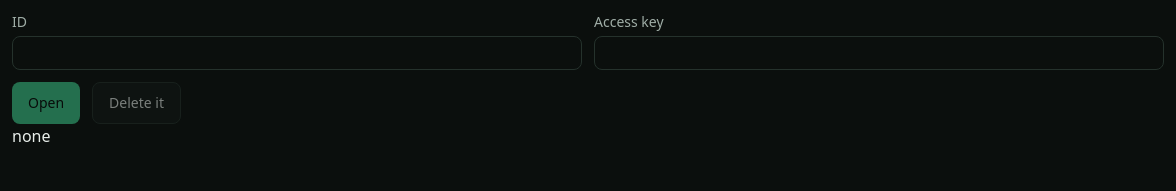
Test: OpenSavedForm › deletes with the ID and key
Type "123e4567-e89b-12d3-a456-426614174000" into the field labelled "ID" at x=297, y=53, box [12,36,582,70]
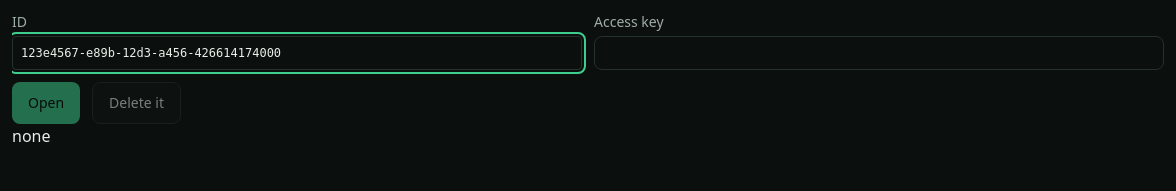
Type "k3y-shown-once-0123456789abcdef" into the password field labelled "Access key" at x=879, y=53, box [594,36,1164,70]
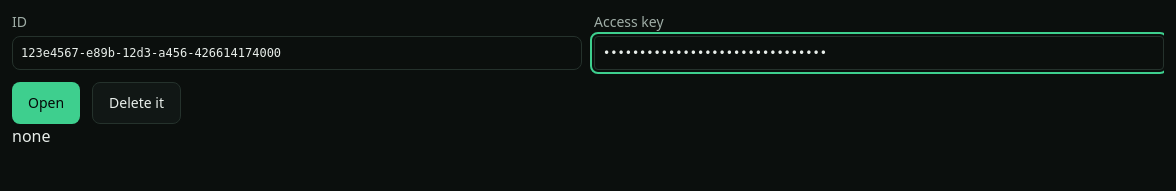
Click the button "Delete it" at x=137, y=103, box [92,82,181,124]
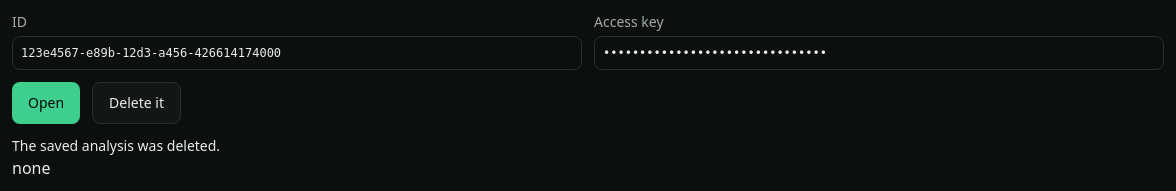
Expected: the text "The saved analysis was deleted." is shown, [12,136,220,155]
